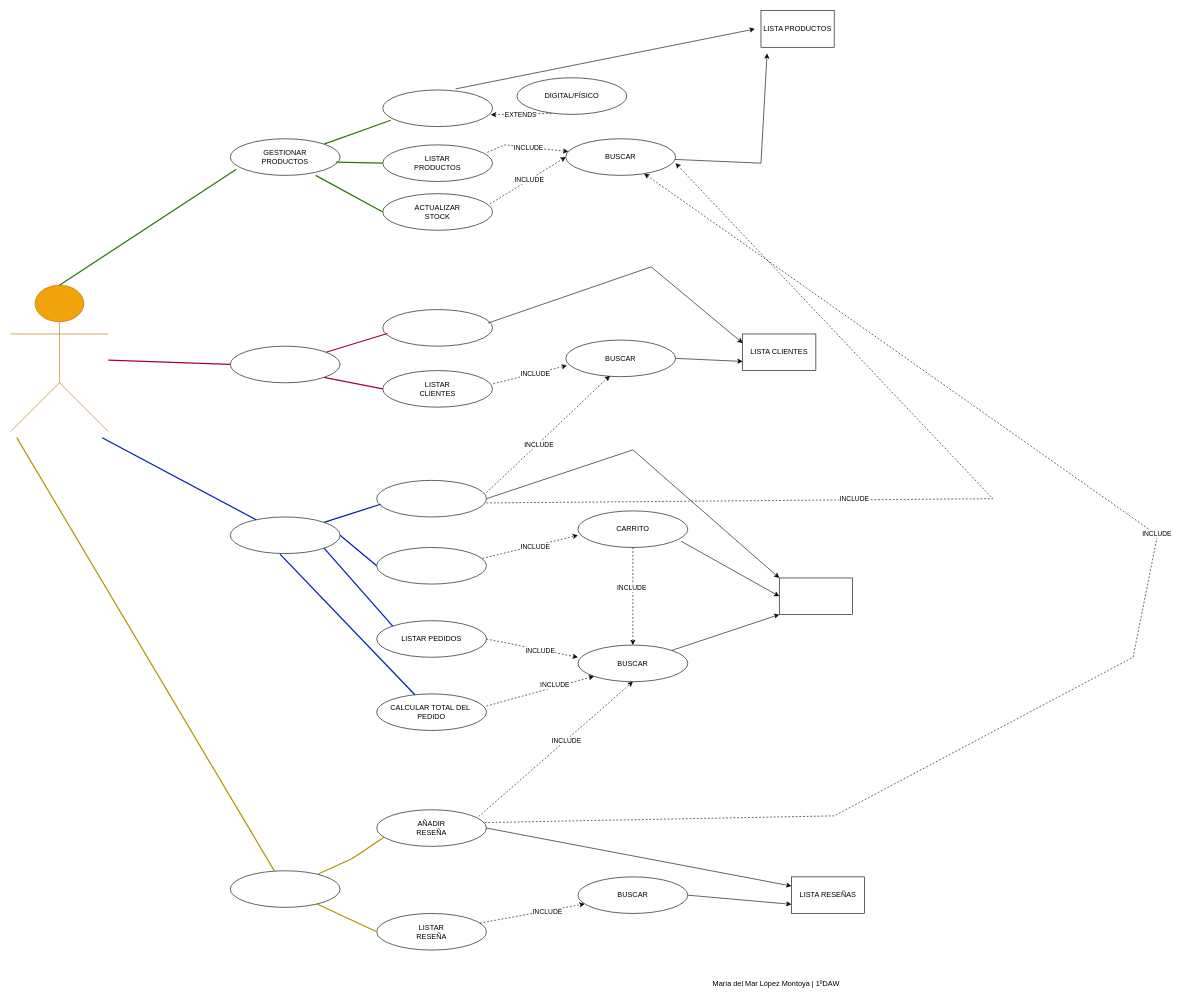
The diagram is 1182 pixels wide and 1003 high, and some of its shapes have lost their labels. The centre of each missing label's shape, as x and y in pixels:
ADMINISTRADOR: (x=59, y=358)
AÑADIR CLIENTES: (x=437, y=327)
AÑADIR PRODUCTOS: (x=437, y=108)
AÑADIR PRODUCTOS A PEDIDO: (x=431, y=565)
CREAR PEDIDO: (x=431, y=498)
GESTIONAR CLIENTES: (x=285, y=364)
GESTIONAR PEDIDOS: (x=285, y=535)
GESTIONAR RESEÑAS: (x=285, y=888)
LISTA PEDIDOS: (x=815, y=596)
